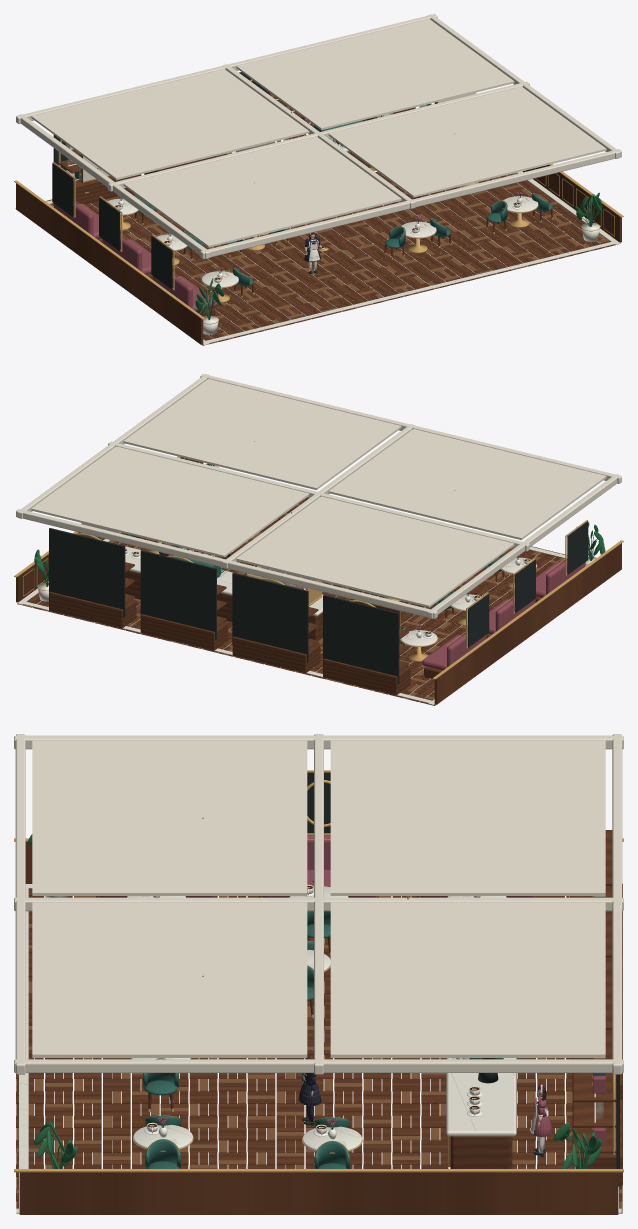
File: interior.glb
The picture shows the model from 3 angles, top to bottom: view 1: azimuth 30°, elevation 25°; view 2: azimuth 150°, elevation 25°; view 3: azimuth 270°, elevation 25°; orthographic projection. The views are drawn at different scales.
Parts seen in each view (by area): view 1: interior_cafe_linen, interior_cafe_walnut, interior_cafe_ivory, interior_cafe_walnut_light, interior_cafe_marble, interior_cafe_brass, interior_cafe_ink, interior_cafe_velvet_rose, interior_cafe_velvet_emerald, interior_cafe_leaf; view 2: interior_cafe_linen, interior_cafe_ink, interior_cafe_walnut, interior_cafe_ivory, interior_cafe_velvet_rose, interior_cafe_brass, interior_cafe_marble, interior_cafe_walnut_light, interior_cafe_leaf; view 3: interior_cafe_linen, interior_cafe_walnut, interior_cafe_ivory, interior_cafe_walnut_light, interior_cafe_marble, interior_cafe_velvet_emerald, interior_cafe_brass, interior_cafe_leaf, interior_cafe_velvet_rose, interior_cafe_ink, interior_cafe_porcelain, staff_xiaolan_cafe_uniform_midnight.
Part boxes in pixels (left/top/right/bottom): interior_cafe_linen: left=31, top=19, right=606, bottom=277; interior_cafe_walnut: left=15, top=96, right=621, bottom=344; interior_cafe_ivory: left=16, top=14, right=621, bottom=258; interior_cafe_walnut_light: left=45, top=97, right=609, bottom=345; interior_cafe_marble: left=46, top=104, right=620, bottom=345; interior_cafe_brass: left=14, top=79, right=623, bottom=324; interior_cafe_ink: left=52, top=72, right=366, bottom=289; interior_cafe_velvet_rose: left=53, top=90, right=523, bottom=311; interior_cafe_velvet_emerald: left=75, top=120, right=552, bottom=286; interior_cafe_leaf: left=119, top=103, right=602, bottom=319; interior_cafe_linen: left=31, top=379, right=606, bottom=639; interior_cafe_ink: left=49, top=521, right=588, bottom=684; interior_cafe_walnut: left=16, top=457, right=621, bottom=705; interior_cafe_ivory: left=16, top=374, right=621, bottom=618; interior_cafe_velvet_rose: left=285, top=555, right=585, bottom=670; interior_cafe_brass: left=14, top=441, right=623, bottom=679; interior_cafe_marble: left=17, top=464, right=596, bottom=704; interior_cafe_walnut_light: left=17, top=504, right=567, bottom=699; interior_cafe_leaf: left=34, top=463, right=605, bottom=632; interior_cafe_linen: left=32, top=740, right=605, bottom=1145; interior_cafe_walnut: left=16, top=830, right=622, bottom=1214; interior_cafe_ivory: left=14, top=734, right=623, bottom=1074; interior_cafe_walnut_light: left=16, top=896, right=622, bottom=1213; interior_cafe_marble: left=16, top=884, right=621, bottom=1213; interior_cafe_velvet_emerald: left=143, top=896, right=605, bottom=1168; interior_cafe_brass: left=14, top=770, right=623, bottom=1172; interior_cafe_leaf: left=27, top=834, right=601, bottom=1168; interior_cafe_velvet_rose: left=99, top=835, right=605, bottom=1144; interior_cafe_ink: left=307, top=772, right=619, bottom=1168; interior_cafe_porcelain: left=142, top=885, right=482, bottom=1139; staff_xiaolan_cafe_uniform_midnight: left=298, top=1073, right=321, bottom=1122.
Bounding box in the file's own units: 17.68 × 3.78 × 13.7.
Materials: 26 (3 with a texture image).
